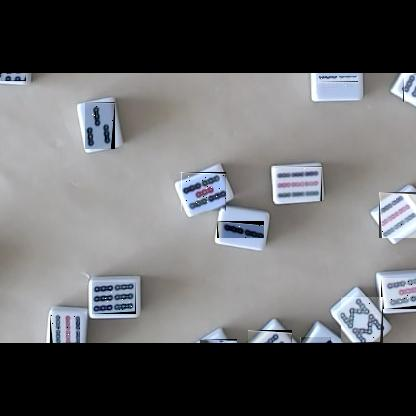2s: (217, 221, 264, 238), (318, 77, 358, 87)
3s: (85, 102, 115, 149), (300, 337, 331, 343)
5s: (181, 172, 226, 211), (381, 278, 416, 309), (199, 339, 237, 343)
6s: (92, 282, 136, 314), (248, 330, 292, 343), (403, 73, 416, 102), (0, 73, 26, 81)
8s: (341, 297, 383, 343)
9s: (273, 166, 322, 201), (379, 192, 416, 238), (50, 313, 80, 343)
